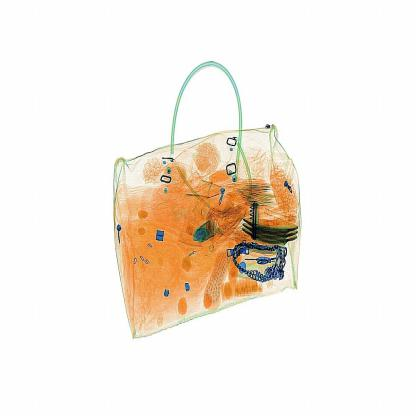scissors: (250, 198, 260, 241)
